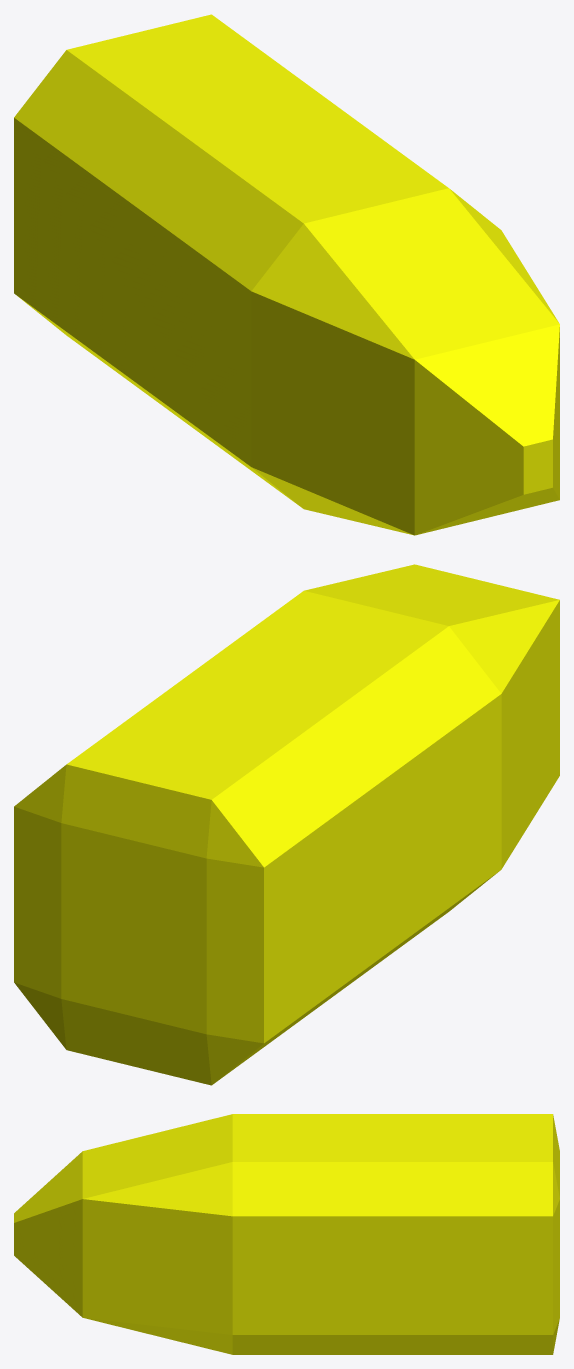
File: bullet.FBX
The picture shows the model from 3 angles, top to bottom: view 1: azimuth 30°, elevation 25°; view 2: azimuth 150°, elevation 25°; view 3: azimuth 270°, elevation 25°; orthographic projection. The views are drawn at different scales.
Visible parts, largest first — view 1: Box001; view 2: Box001; view 3: Box001.
Boxes of the visible parts, x1,y1,x2,y2 form: Box001: (14,14,559,535); Box001: (14,564,559,1085); Box001: (14,1114,559,1354).
Size of the model in its own units: 3.36 by 3.66 by 9.4.
